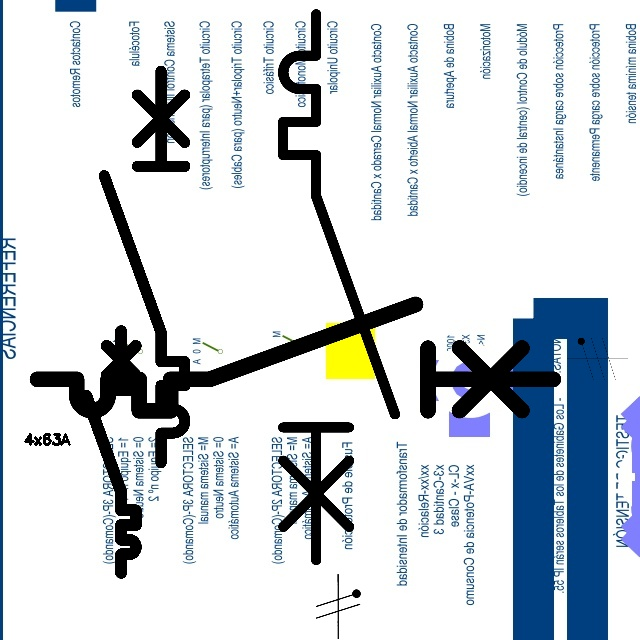interruptor_termomagnetico: (269, 0, 409, 573), (24, 291, 566, 424), (94, 61, 195, 473), (80, 325, 142, 579)
